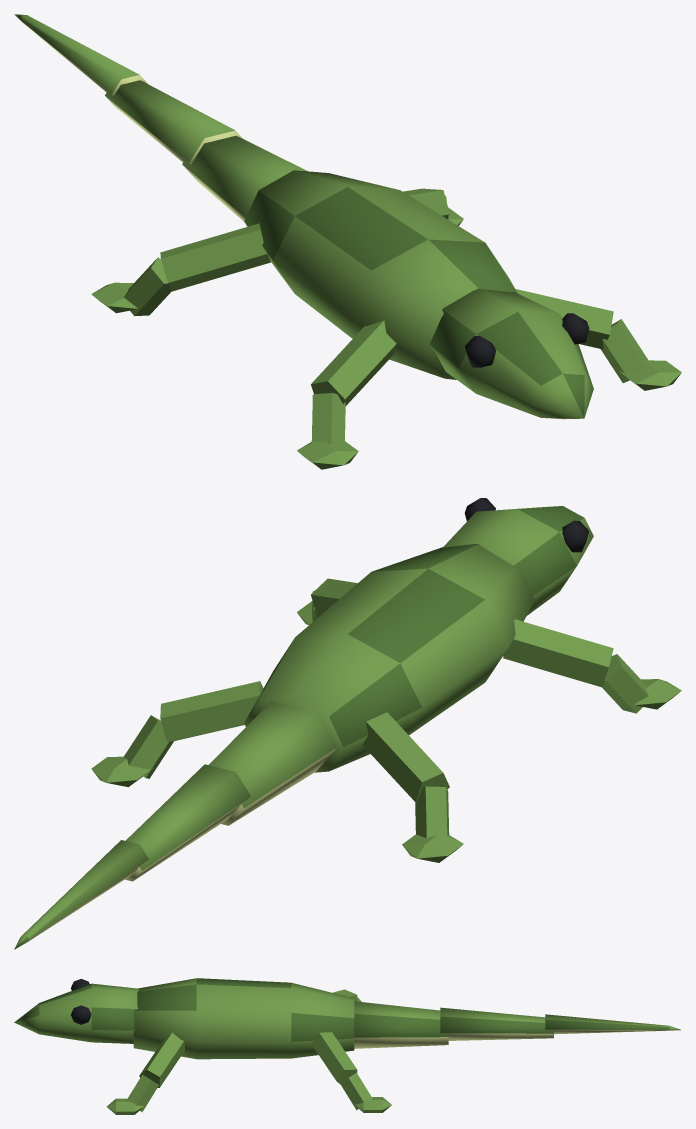
Rendered from lizard.glb.
3 views of the same model, one above another, from view 1: azimuth 30°, elevation 25°; view 2: azimuth 150°, elevation 25°; view 3: azimuth 270°, elevation 25° (orthographic). The views are drawn at different scales.
Visible parts, largest first — view 1: Lizard_Body, Lizard_Head, Lizard_LegBR, Lizard_LegFR, Lizard_Tail1, Lizard_Tail2, Lizard_LegFL, Lizard_Tail3, Lizard_LegBL; view 2: Lizard_Body, Lizard_Head, Lizard_Tail1, Lizard_LegFR, Lizard_LegBL, Lizard_LegBR, Lizard_Tail2, Lizard_Tail3, Lizard_LegFL; view 3: Lizard_Body, Lizard_Head, Lizard_Tail1, Lizard_Tail2, Lizard_LegBL, Lizard_LegFL, Lizard_Tail3.
Part boxes in pixels (bbox=[...]): Lizard_Body: bbox=[244, 170, 517, 379]; Lizard_Head: bbox=[429, 288, 593, 419]; Lizard_LegBR: bbox=[91, 223, 270, 316]; Lizard_LegFR: bbox=[297, 320, 396, 469]; Lizard_Tail1: bbox=[182, 135, 307, 221]; Lizard_Tail2: bbox=[105, 80, 242, 164]; Lizard_LegFL: bbox=[515, 289, 681, 390]; Lizard_Tail3: bbox=[14, 14, 147, 95]; Lizard_LegBL: bbox=[403, 188, 463, 225]; Lizard_Body: bbox=[244, 544, 534, 772]; Lizard_Head: bbox=[442, 498, 593, 615]; Lizard_Tail1: bbox=[208, 701, 337, 825]; Lizard_LegFR: bbox=[503, 619, 681, 713]; Lizard_LegBL: bbox=[91, 681, 263, 787]; Lizard_LegBR: bbox=[363, 712, 463, 862]; Lizard_Tail2: bbox=[125, 764, 251, 881]; Lizard_Tail3: bbox=[14, 840, 148, 949]; Lizard_LegFL: bbox=[297, 578, 357, 624]; Lizard_Body: bbox=[133, 978, 354, 1059]; Lizard_Head: bbox=[14, 979, 138, 1043]; Lizard_Tail1: bbox=[354, 1001, 448, 1048]; Lizard_Tail2: bbox=[440, 1007, 553, 1040]; Lizard_LegBL: bbox=[311, 1032, 391, 1112]; Lizard_LegFL: bbox=[106, 1032, 184, 1114]; Lizard_Tail3: bbox=[545, 1014, 680, 1034].
Bounding box in the file's own units: 0.1188 × 0.044 × 0.318.
